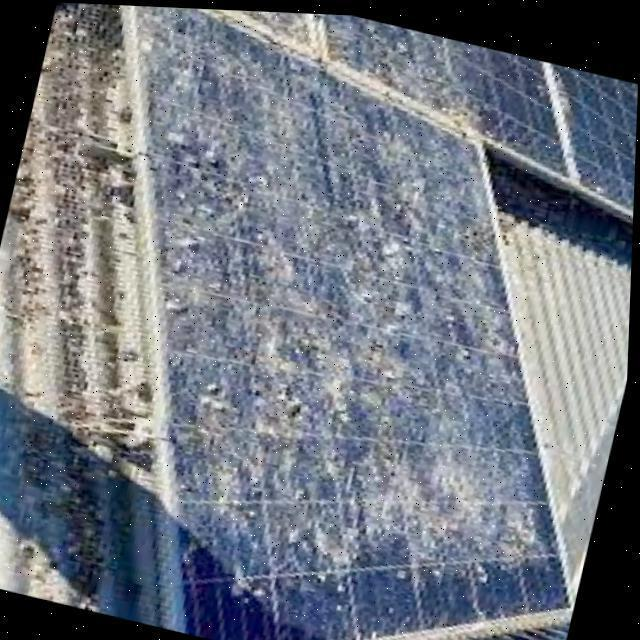Surface Contaminant: (132, 5, 580, 640), (312, 11, 567, 171)
